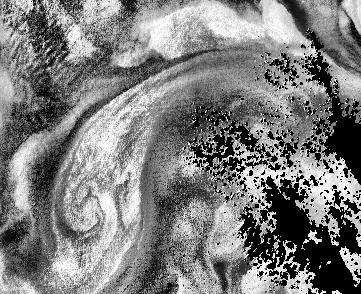CE: (47, 179, 117, 244)
